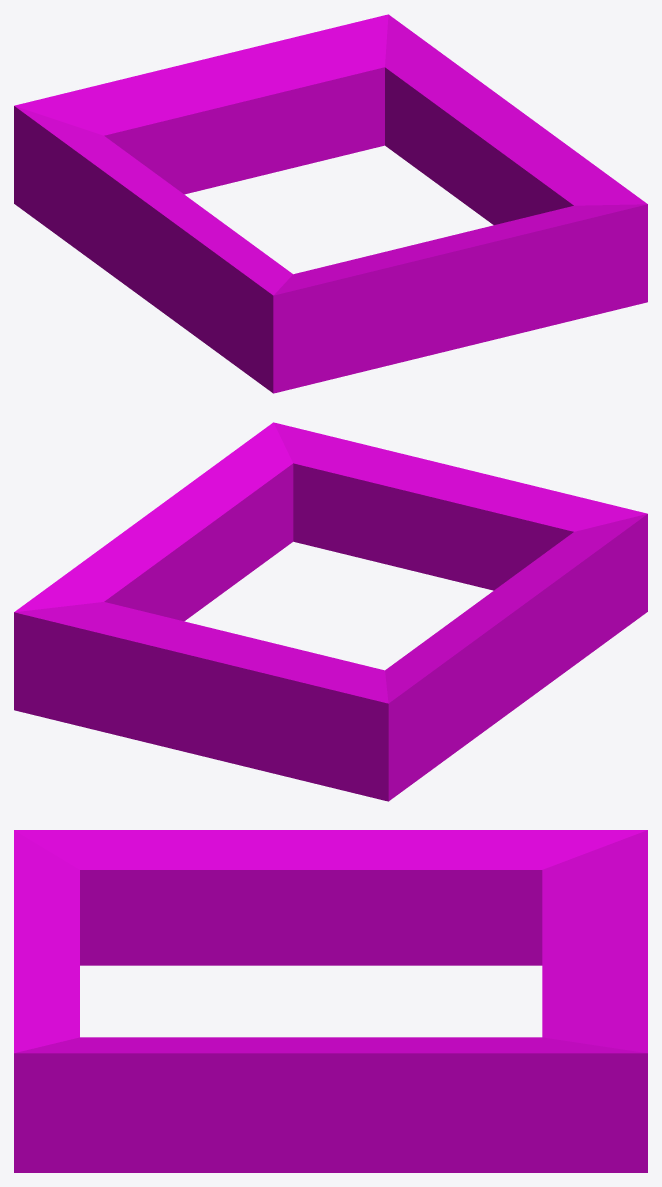
The model's file is ArchwaySimple.fbx.
The picture shows the model from 3 angles, top to bottom: view 1: azimuth 30°, elevation 25°; view 2: azimuth 150°, elevation 25°; view 3: azimuth 270°, elevation 25°; orthographic projection. The views are drawn at different scales.
Visible parts, largest first — view 1: ArchwaySimple; view 2: ArchwaySimple; view 3: ArchwaySimple.
Boxes of the visible parts, x1,y1,x2,y2 form: ArchwaySimple: (14, 14, 647, 393); ArchwaySimple: (14, 422, 647, 801); ArchwaySimple: (14, 830, 647, 1172).
Size of the model in its own units: 80000 by 20000 by 96000.
